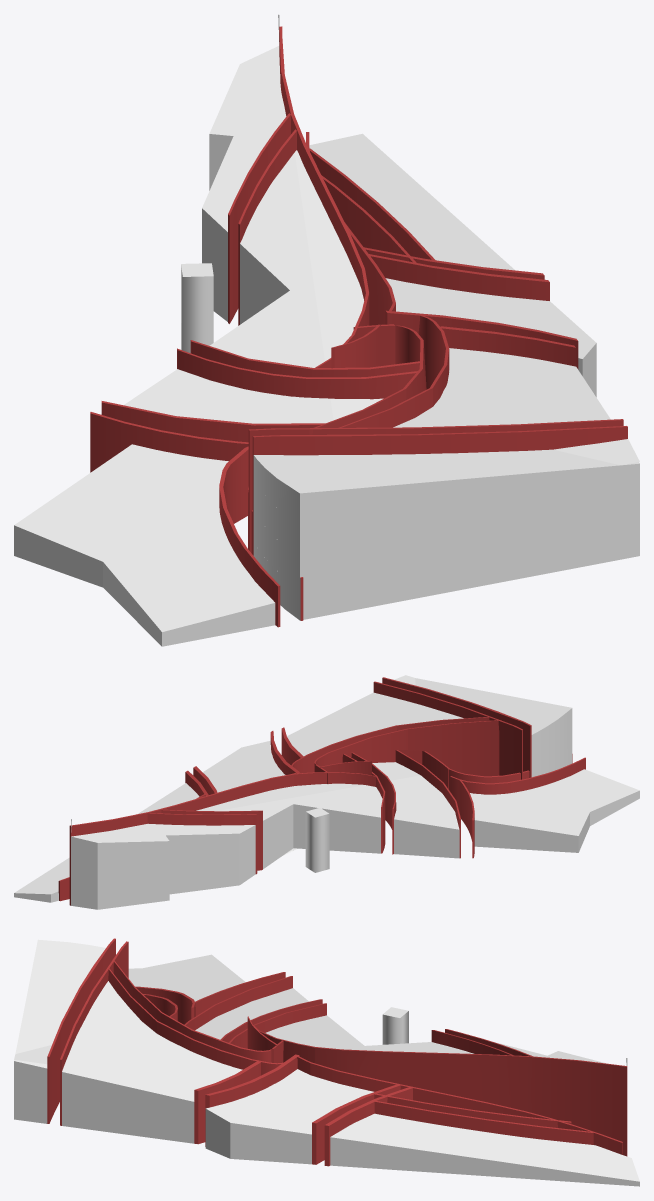
3 views of the same model, one above another, from view 1: azimuth 30°, elevation 25°; view 2: azimuth 150°, elevation 25°; view 3: azimuth 270°, elevation 25° (orthographic). The views are drawn at different scales.
Visible parts, largest first — view 1: 物件_41, 物件_25, 物件_40, 物件_43, 物件_28, 物件_46, 物件_27, 物件_24, 物件_42, 物件_15, 物件_6, 物件_22 (+25 smaller); view 2: 物件_25, 物件_21, 物件_22, 物件_24, 物件_41, 物件_40, 物件_23, 物件_4, 物件_27, 物件_20, 物件_47, 物件_42 (+21 smaller); view 3: 物件_40, 物件_20, 物件_43, 物件_42, 物件_41, 物件_25, 物件_53, 物件_45, 物件_46, 物件_24, 物件_23, 物件_52 (+23 smaller).
Boxes of the visible parts, <box> form: 物件_41: <box>253,449,639,620</box>; 物件_25: <box>14,444,275,646</box>; 物件_40: <box>393,348,610,427</box>; 物件_43: <box>309,133,515,270</box>; 物件_28: <box>240,150,363,303</box>; 物件_46: <box>252,426,627,555</box>; 物件_27: <box>240,244,363,367</box>; 物件_24: <box>124,369,343,423</box>; 物件_42: <box>385,278,596,397</box>; 物件_15: <box>177,348,417,399</box>; 物件_6: <box>90,412,248,472</box>; 物件_22: <box>202,46,286,207</box>; 物件_25: <box>470,769,639,852</box>; 物件_21: <box>71,835,169,909</box>; 物件_22: <box>71,824,239,894</box>; 物件_24: <box>394,762,459,858</box>; 物件_41: <box>415,678,572,777</box>; 物件_40: <box>287,692,463,756</box>; 物件_23: <box>293,787,382,853</box>; 物件_4: <box>407,720,501,776</box>; 物件_27: <box>263,783,374,868</box>; 物件_20: <box>69,774,294,905</box>; 物件_47: <box>373,681,522,779</box>; 物件_42: <box>203,740,285,792</box>; 物件_40: <box>62,981,242,1143</box>; 物件_20: <box>315,1047,627,1156</box>; 物件_43: <box>330,1113,639,1186</box>; 物件_42: <box>205,1069,373,1164</box>; 物件_41: <box>14,939,105,1123</box>; 物件_25: <box>128,954,245,1001</box>; 物件_53: <box>310,1062,622,1154</box>; 物件_45: <box>373,1100,593,1144</box>; 物件_46: <box>47,938,115,1123</box>; 物件_24: <box>195,988,308,1038</box>; 物件_23: <box>266,1015,364,1045</box>; 物件_52: <box>156,1021,286,1075</box>.
Bounding box in the file's own units: 114 × 25.12 × 143.
